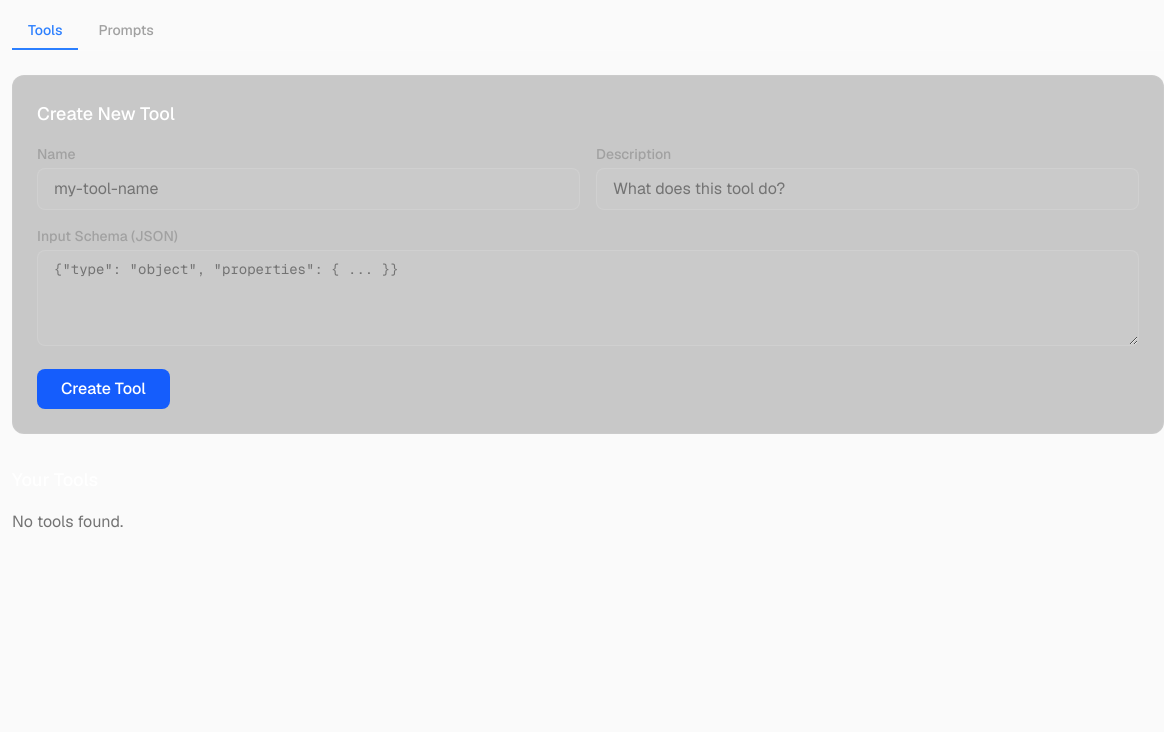
Test: McpDashboardClient › creates a new tool
The image size is (1164, 732).
In the field with placeholder "my-tool-name": (308, 189) [37,168,580,210], type "New Tool"
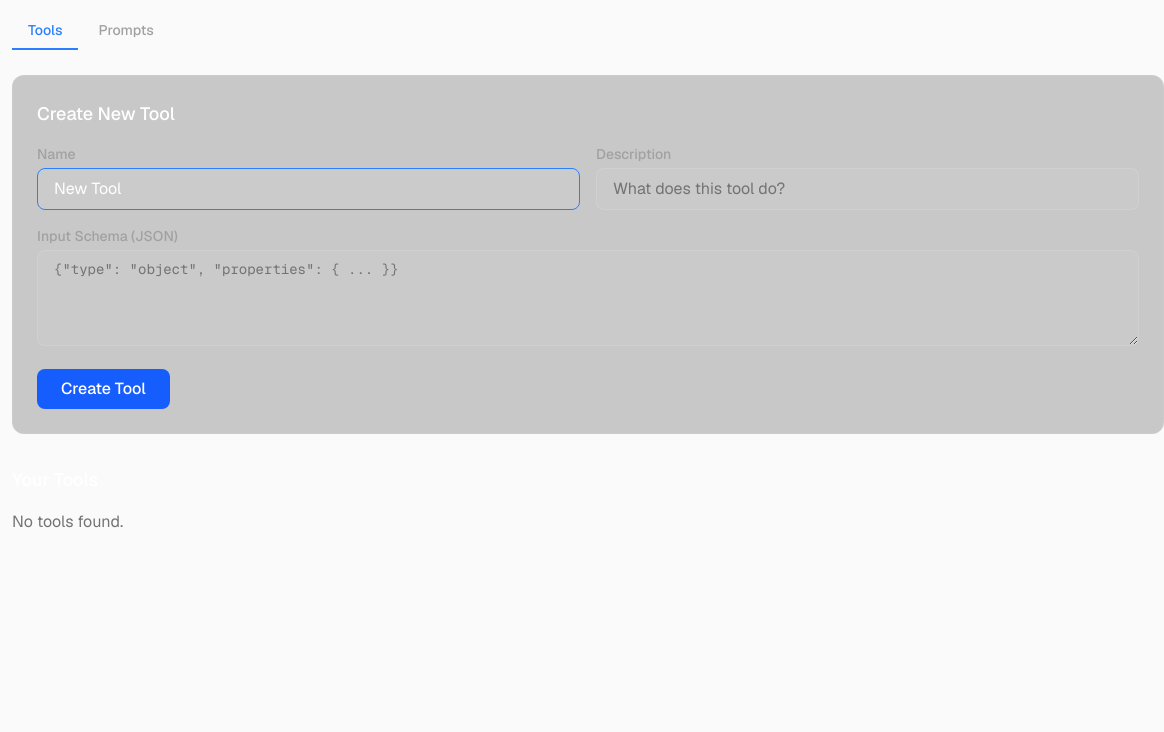
In the field with placeholder "What does this tool do?": (868, 189) [596,168,1139,210], type "Desc"
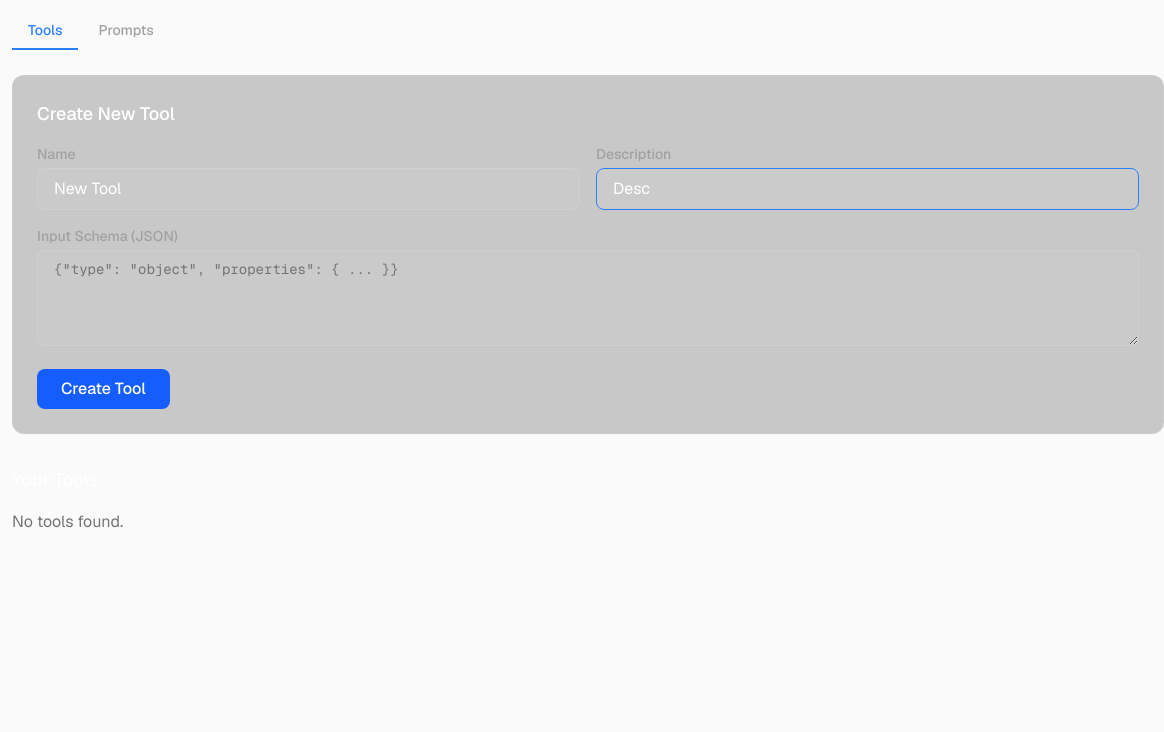
Click the button "Create Tool": (103, 389) [37,369,170,409]
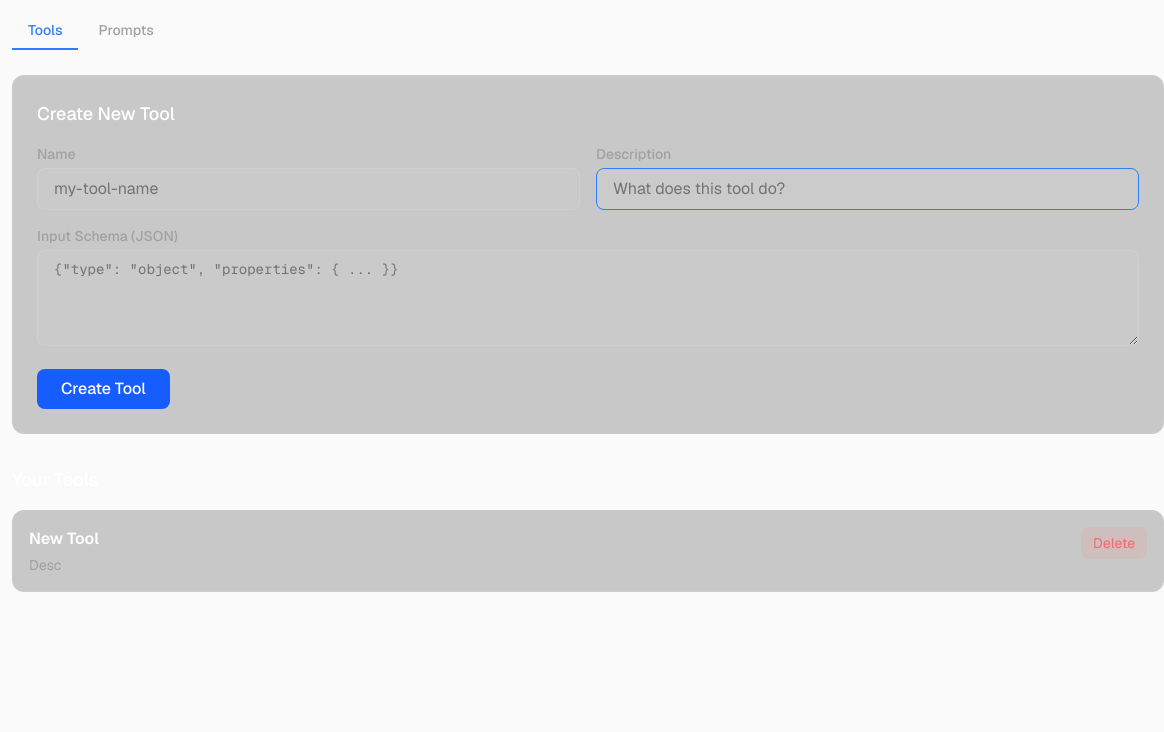
Expected: the heading "New Tool" is shown, [29,527,99,551]
